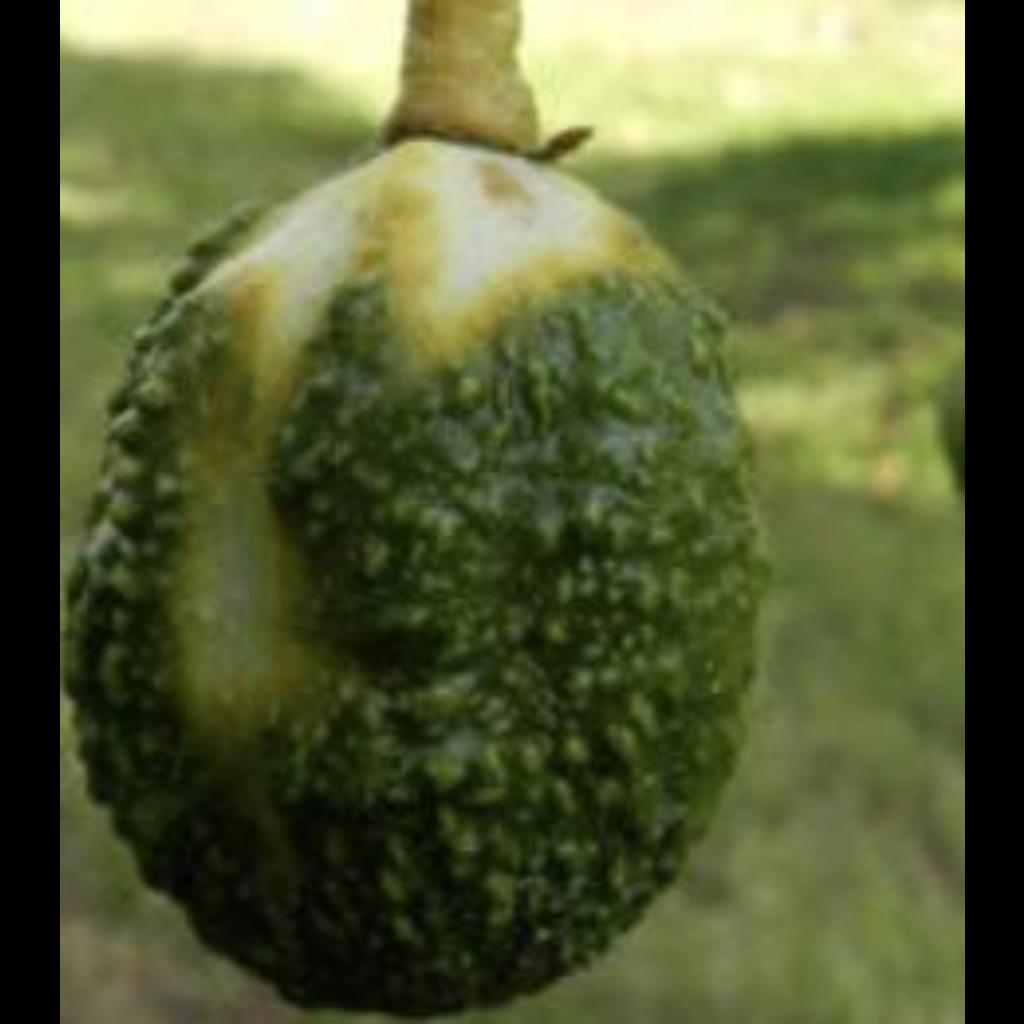sunblotch: (116, 152, 766, 1006)
